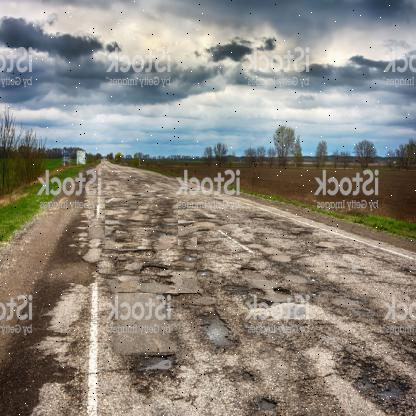damage: (117, 237, 197, 294), (104, 198, 178, 250)
pothole: (116, 341, 187, 408)
